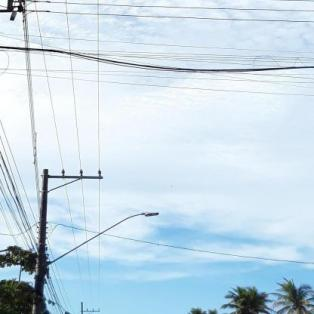Poste: (29, 163, 55, 311)
